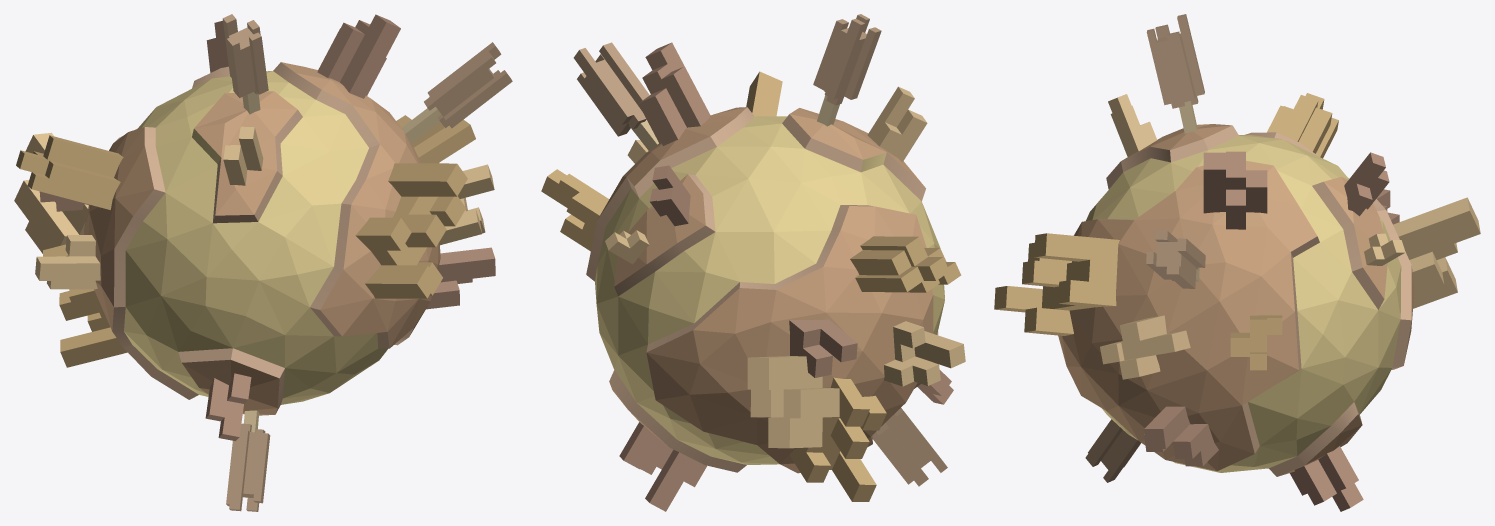
File: Planete_ElectroV2.fbx
3 renders of one model, left to right at view 1: azimuth 30°, elevation 25°; view 2: azimuth 150°, elevation 25°; view 3: azimuth 270°, elevation 25°, orthographic. The views are drawn at different scales.
Visible parts, largest first — view 1: group74_pasted__group69_pasted__pasted__pCube15; view 2: group74_pasted__group69_pasted__pasted__pCube15; view 3: group74_pasted__group69_pasted__pasted__pCube15.
Part boxes in pixels (<box>): group74_pasted__group69_pasted__pasted__pCube15: <box>14,14,512,511</box>; group74_pasted__group69_pasted__pasted__pCube15: <box>541,14,965,511</box>; group74_pasted__group69_pasted__pasted__pCube15: <box>994,14,1480,511</box>.
Bounding box in the file's own units: 28.67 × 30.44 × 28.36.
